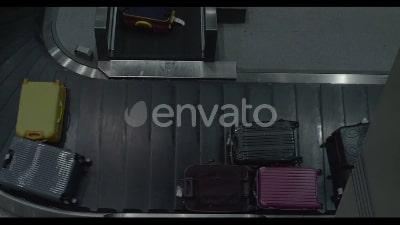baggage: (1, 137, 92, 209), (251, 164, 330, 217), (224, 118, 309, 166), (175, 162, 250, 214), (14, 76, 66, 141), (118, 10, 189, 37)
